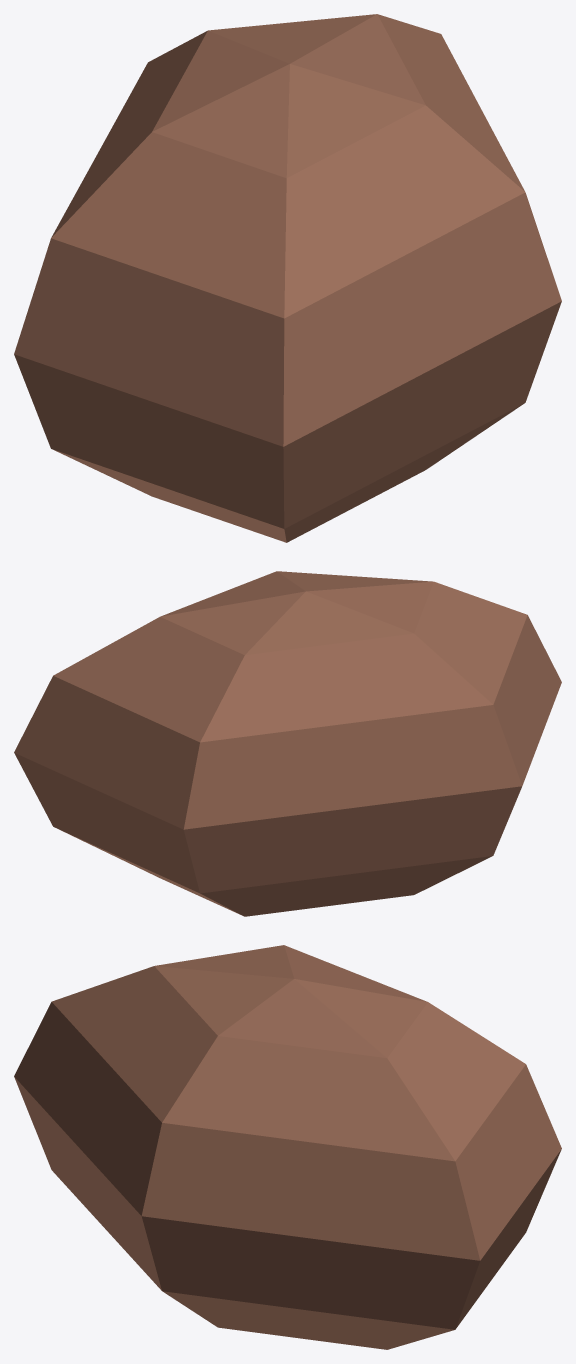
Rendered from west_rock04.fbx.
The picture shows the model from 3 angles, top to bottom: view 1: azimuth 30°, elevation 25°; view 2: azimuth 150°, elevation 25°; view 3: azimuth 270°, elevation 25°; orthographic projection. The views are drawn at different scales.
Parts seen in each view (by area): view 1: pSphere11; view 2: pSphere11; view 3: pSphere11.
Boxes of the visible parts, x1,y1,x2,y2 form: pSphere11: (14,14,561,542); pSphere11: (14,571,561,916); pSphere11: (14,945,561,1349).
Size of the model in its own units: 5.7 by 3.96 by 5.84.
